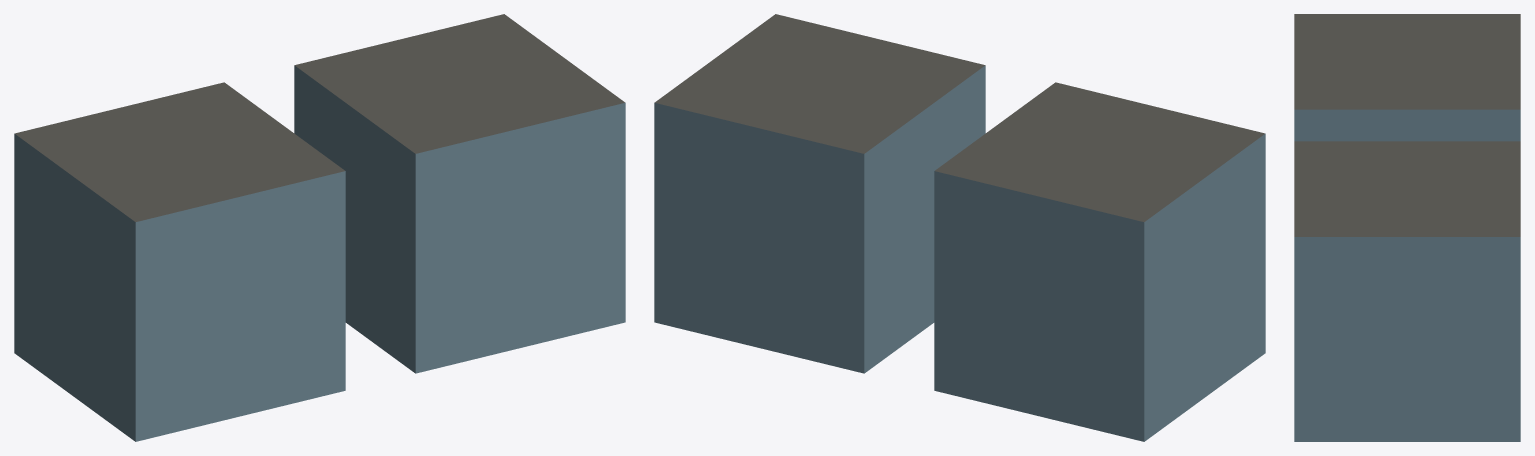
Rendered from 0889-Buildings-shell-pieces-building-body-walls-slabs-emitBuilding-20-triangles-7-00-.glb.
3 renders of one model, left to right at view 1: azimuth 30°, elevation 25°; view 2: azimuth 150°, elevation 25°; view 3: azimuth 270°, elevation 25°, orthographic. The views are drawn at different scales.
Parts seen in each view (by area): view 1: emitBuilding; view 2: emitBuilding; view 3: emitBuilding.
Part boxes in pixels (x1=…): emitBuilding: x1=14, y1=14, x2=625, y2=441; emitBuilding: x1=654, y1=14, x2=1265, y2=441; emitBuilding: x1=1294, y1=14, x2=1520, y2=441.
Size of the model in its own units: 7 by 3 by 3.
